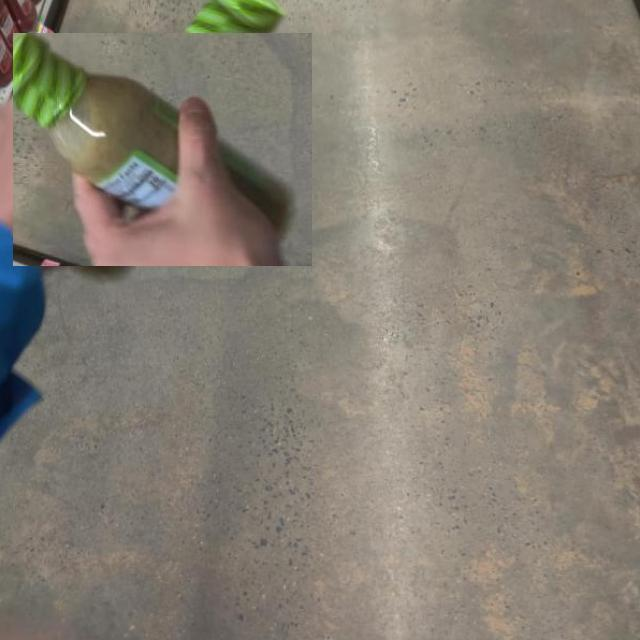Sauce: (14, 32, 312, 266)
